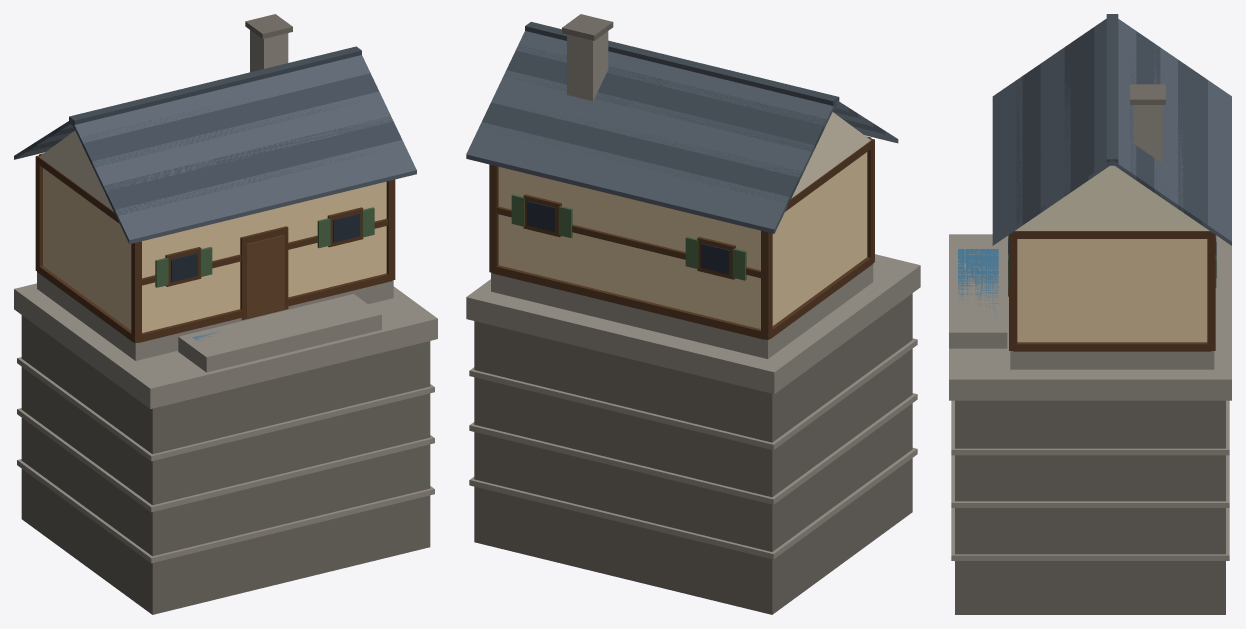
The model's file is bathhouse.glb.
3 renders of one model, left to right at view 1: azimuth 30°, elevation 25°; view 2: azimuth 150°, elevation 25°; view 3: azimuth 270°, elevation 25°, orthographic. The views are drawn at different scales.
Parts seen in each view (by area): view 1: bathhouse; view 2: bathhouse; view 3: bathhouse.
Part boxes in pixels (x1=…): bathhouse: x1=14, y1=14, x2=437, y2=614; bathhouse: x1=466, y1=14, x2=920, y2=614; bathhouse: x1=949, y1=14, x2=1231, y2=614.
Size of the model in its own units: 5.9 by 9.25 by 4.85.
